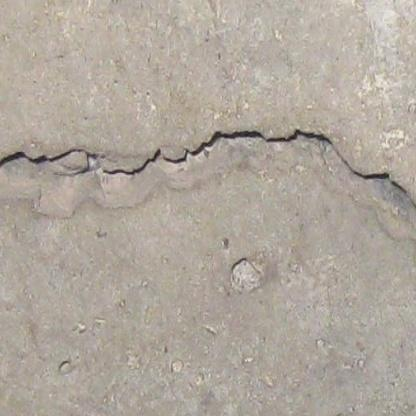Cracks: (0, 126, 416, 224)
